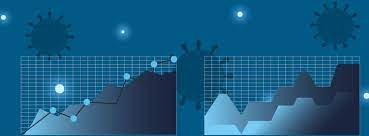

The page's visual inventory and layout, read from the dashboard file:
{"tool":"tableau","page":{"name":"Dashboard 1","canvas":[1000,1000],"units":"permille","ordinal":0},"visuals":[{"type":"worksheet","title":"Sheet 1","mark":"Automatic","box":[4.7,8.9,448.5,157.4]},{"type":"worksheet","title":"Sheet 3","mark":"Automatic","box":[453.2,8.9,448.5,488.9]},{"type":"legend","title":"Sheet 3","param":"[federated.0bdxzsr0x0wgz4163kp881f8n9du].[sum:PercentPopulationInfected:qk]","box":[901.7,8.9,93.6,72.5]},{"type":"worksheet","title":"Sheet 2","mark":"Automatic","rows":["TotalDeathCount"],"cols":["location"],"box":[4.7,166.3,448.5,331.6]},{"type":"worksheet","title":"Sheet 4","mark":"Automatic","rows":["PercentPopulationInfected"],"cols":["date"],"box":[4.7,497.9,897,493.2]},{"type":"legend","title":"Sheet 4","param":"[federated.0zofbab0h628xu15b8rio106voff].[none:location:nk]\n[federated.0zofbab0h","box":[901.7,497.9,93.6,493.2]}]}

Visuals, with their boxes on the dashboard's canvas, which has no fixed pixel size, in thousandths of its width and height (x1, y1, x2, y2). These are canvas units, not pixel positions in the 369x136 screenshot, which may show the page scaled, cropped or inside an application window:
"Sheet 1" worksheet: select_region(5, 9, 453, 166)
"Sheet 3" worksheet: select_region(453, 9, 902, 498)
"Sheet 3" legend: select_region(902, 9, 995, 81)
"Sheet 2" worksheet: select_region(5, 166, 453, 498)
"Sheet 4" worksheet: select_region(5, 498, 902, 991)
"Sheet 4" legend: select_region(902, 498, 995, 991)
